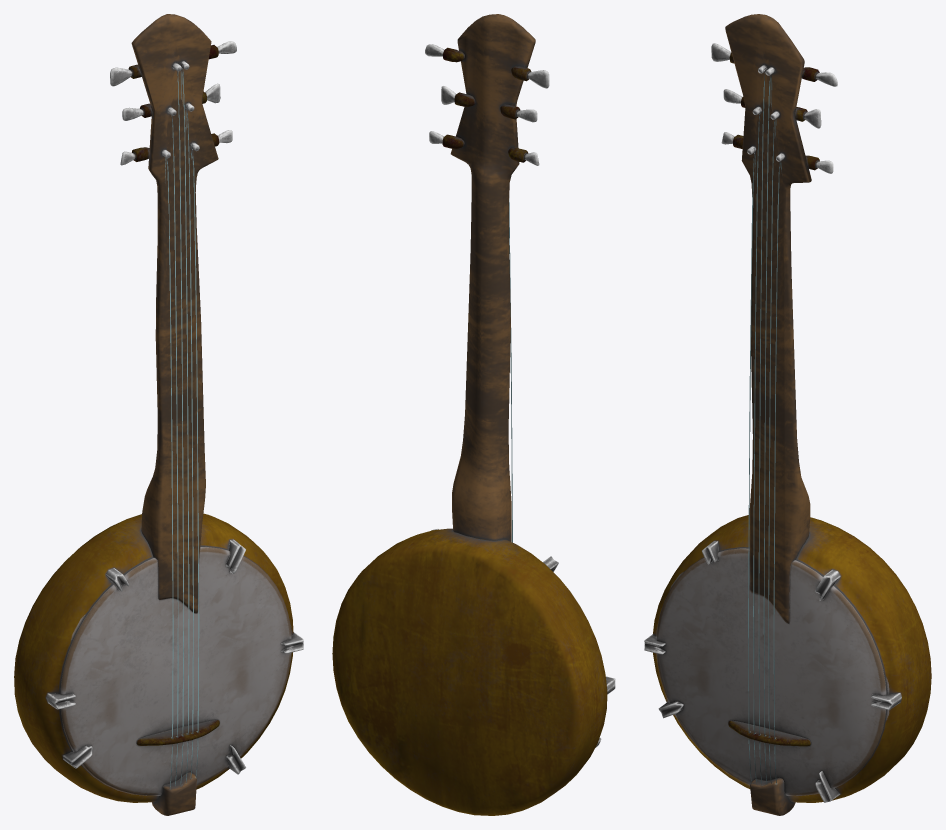
Rendered from Banjo.fbx.
The picture shows the model from 3 angles, left to right: view 1: azimuth 30°, elevation 25°; view 2: azimuth 150°, elevation 25°; view 3: azimuth 330°, elevation 25°; orthographic projection. The views are drawn at different scales.
Parts seen in each view (by area): view 1: BanjoL; view 2: BanjoL; view 3: BanjoL.
Part boxes in pixels (x1,y1,x2,y2): BanjoL: (14, 14, 303, 815); BanjoL: (332, 14, 615, 815); BanjoL: (644, 14, 931, 815).
Bounding box in the file's own units: 34.47 × 102 × 12.87.
